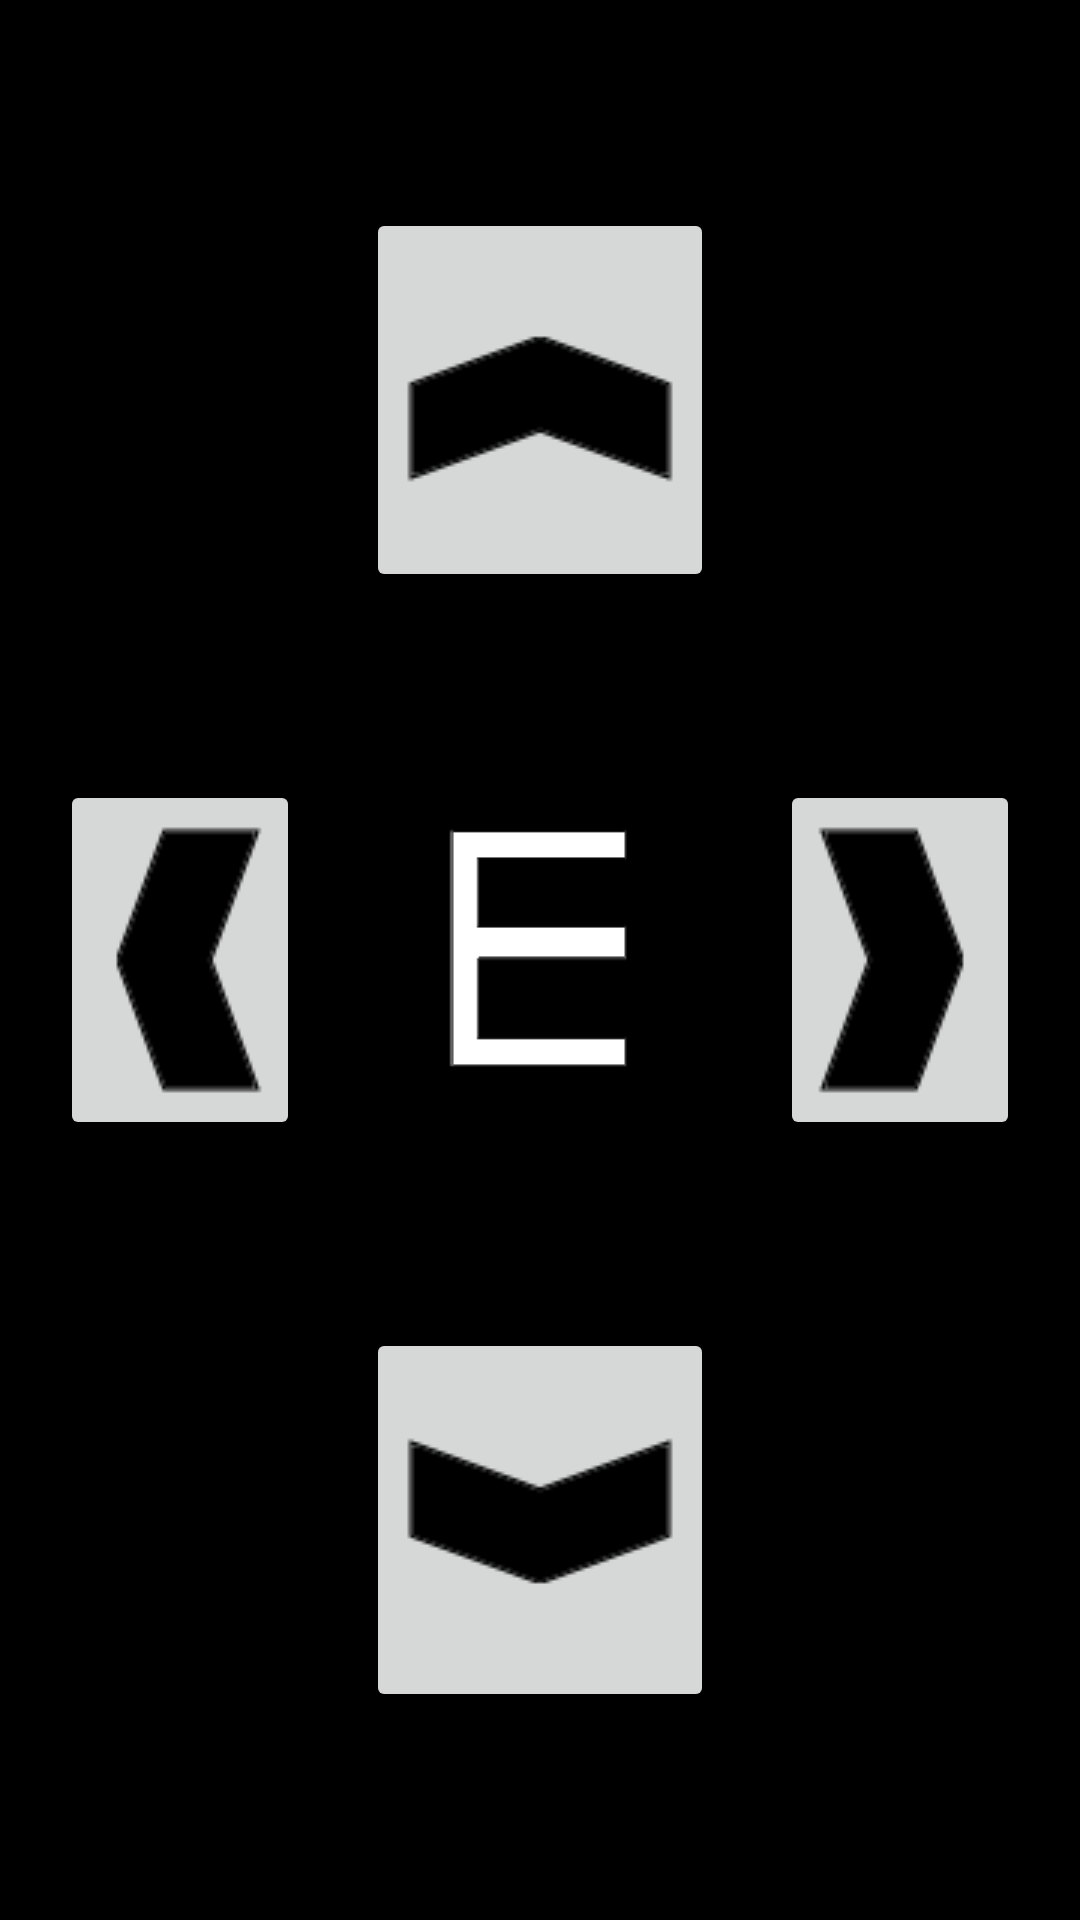

Locate icon controls on the screen. Image size 1080×1920, boxes as (x1, y1, x2, y2).
tumblinge: (450, 830, 627, 1067)
